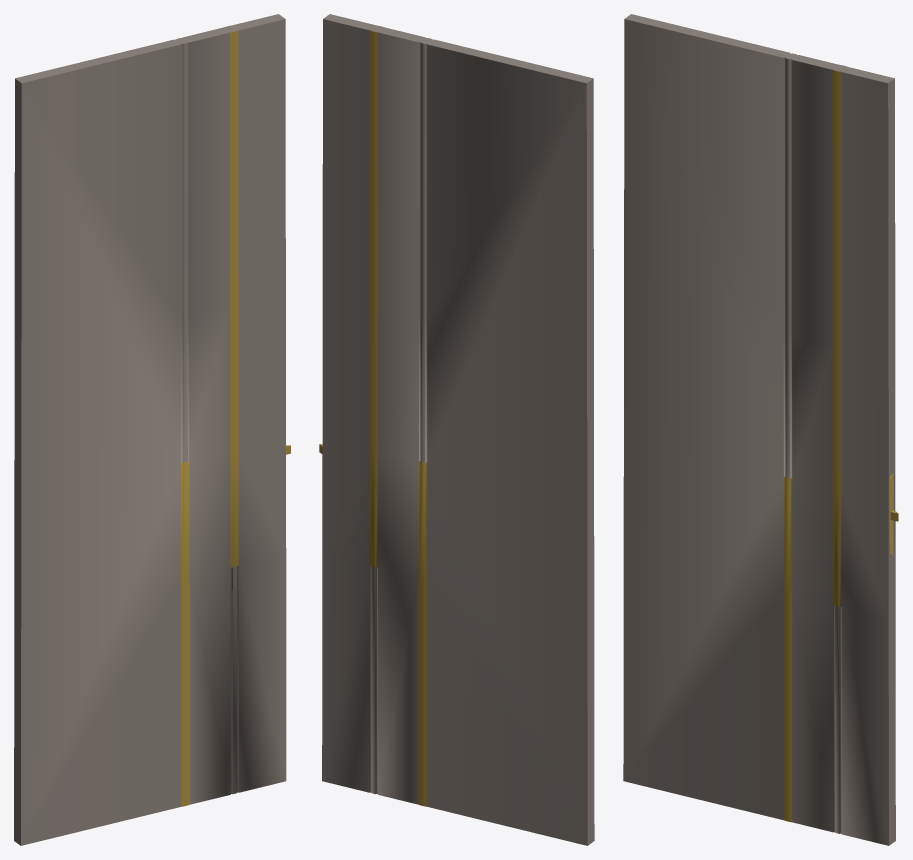
Rendered from 34_SOFIA_Door.glb.
The picture shows the model from 3 angles, left to right: view 1: azimuth 30°, elevation 25°; view 2: azimuth 150°, elevation 25°; view 3: azimuth 330°, elevation 25°; orthographic projection.
Visible parts, largest first — view 1: 34_SOFIA_Door; view 2: 34_SOFIA_Door; view 3: 34_SOFIA_Door.
Boxes of the visible parts, x1=… form: 34_SOFIA_Door: x1=14, y1=14, x2=290, y2=845; 34_SOFIA_Door: x1=319, y1=14, x2=594, y2=845; 34_SOFIA_Door: x1=623, y1=14, x2=898, y2=845.
Size of the model in its own units: 0.8257 by 2.21 by 0.0385.
